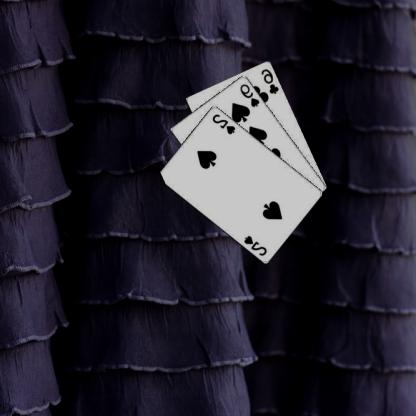2S: (211, 111, 238, 136), (243, 232, 270, 257)
6C: (260, 66, 282, 95)
9S: (240, 81, 262, 108)
